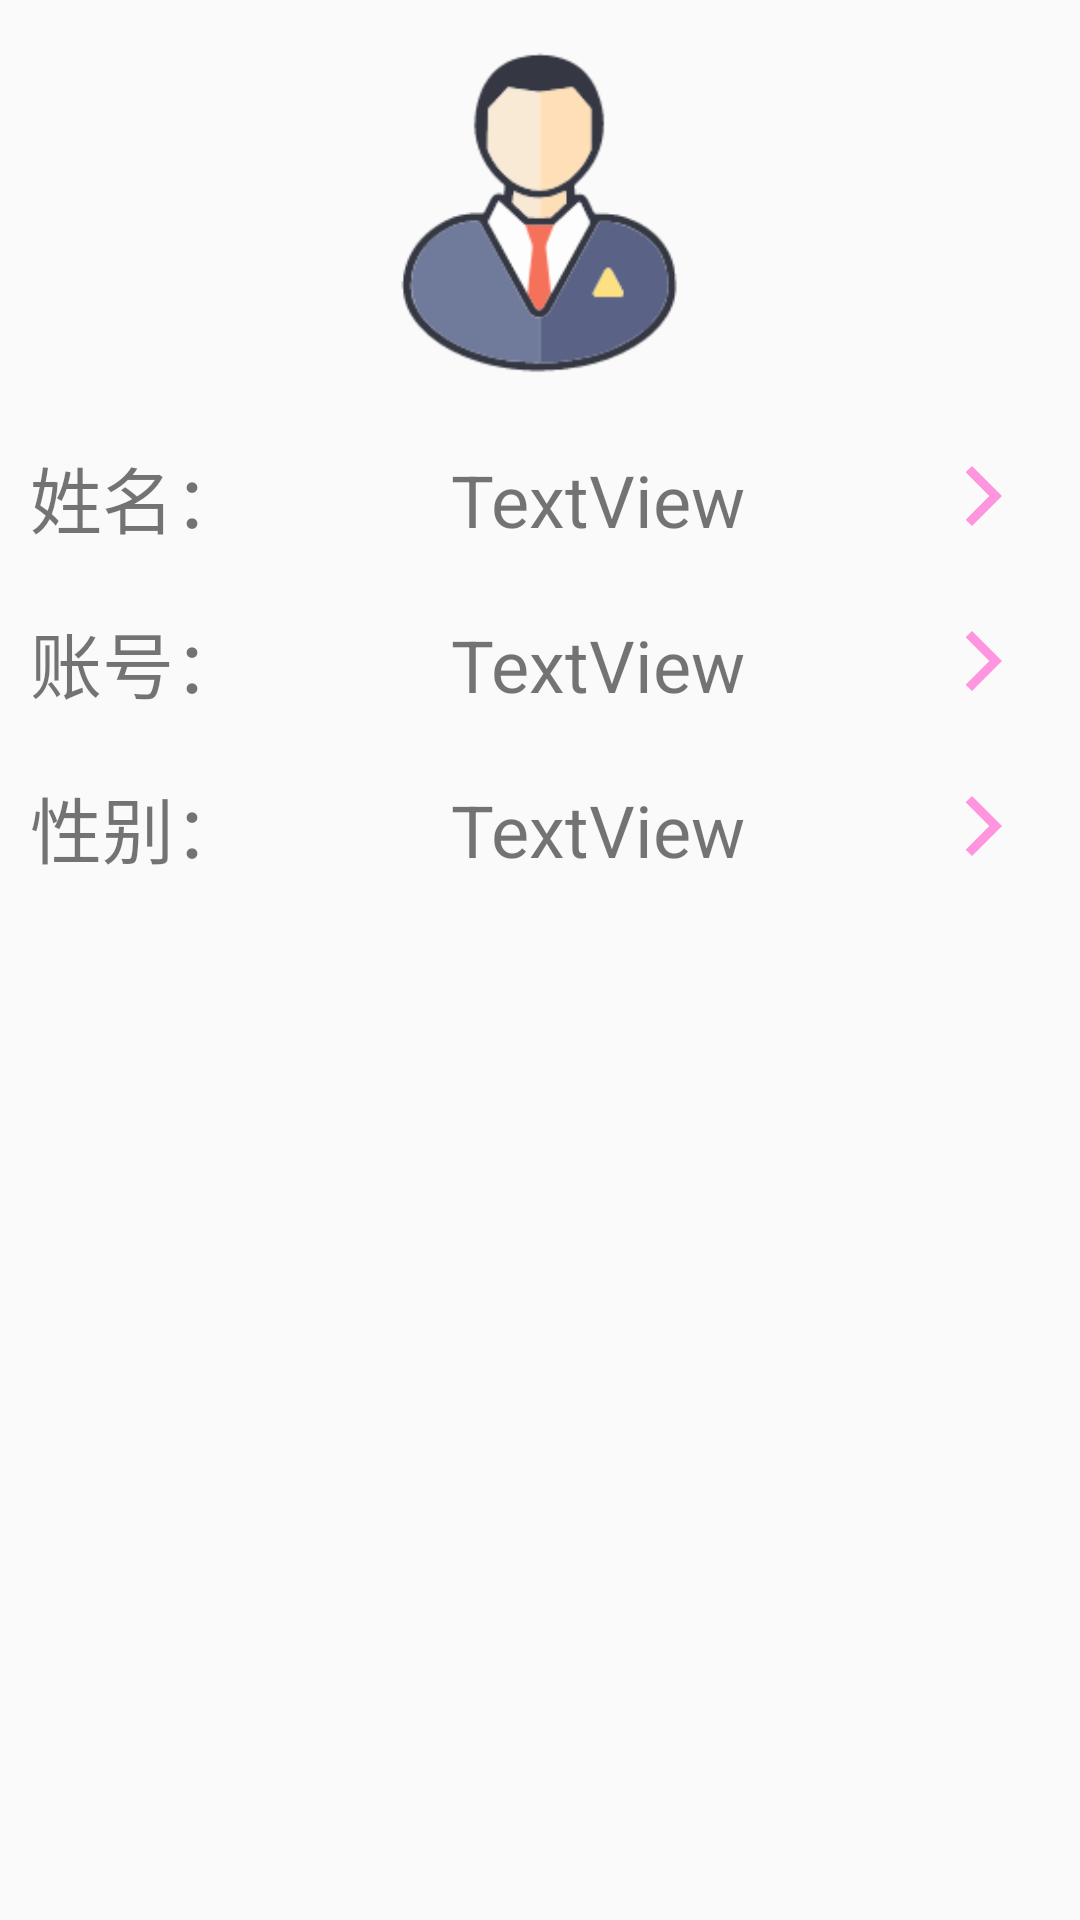

Named icons in this screenshot (1080px×1920px) and their bounding boxes, [x1=x1, y1=y1, x2=x2, y2=y2]:
arrow forward: [x1=966, y1=466, x2=1002, y2=526], [x1=966, y1=631, x2=1002, y2=691], [x1=966, y1=796, x2=1002, y2=856]
touxiang: [x1=401, y1=53, x2=677, y2=372]
